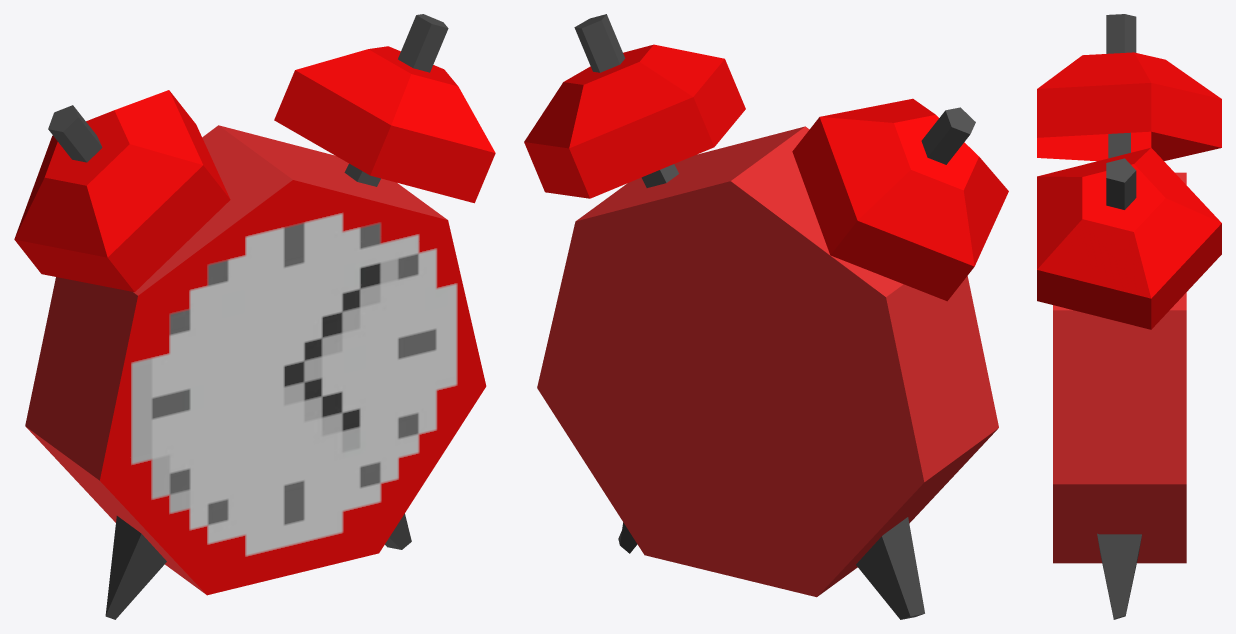
The model's file is low_poly_clock.glb.
3 views of the same model, side by side, from view 1: azimuth 30°, elevation 25°; view 2: azimuth 150°, elevation 25°; view 3: azimuth 270°, elevation 25° (orthographic). The views are drawn at different scales.
Parts seen in each view (by area): view 1: Clock_1; view 2: Clock_1; view 3: Clock_1.
Part boxes in pixels (left/top/right/bottom): Clock_1: left=14, top=14, right=495, bottom=619; Clock_1: left=524, top=14, right=1008, bottom=619; Clock_1: left=1037, top=14, right=1221, bottom=619.
Bounding box in the file's own units: 1.63 × 1.82 × 0.6473.
2 materials, 1 textured.
